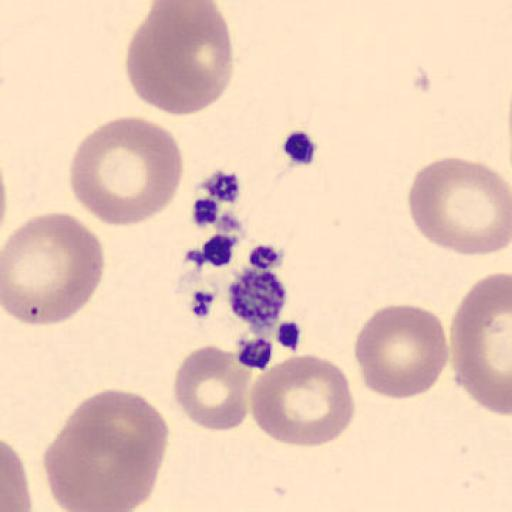RBC: (44, 387, 169, 511), (68, 115, 185, 229), (124, 0, 234, 117), (2, 211, 106, 326), (42, 417, 159, 512), (407, 156, 512, 257), (249, 352, 355, 449), (64, 387, 169, 478), (354, 303, 450, 401), (449, 271, 512, 417), (171, 343, 251, 433), (0, 438, 31, 512), (146, 0, 224, 24)
